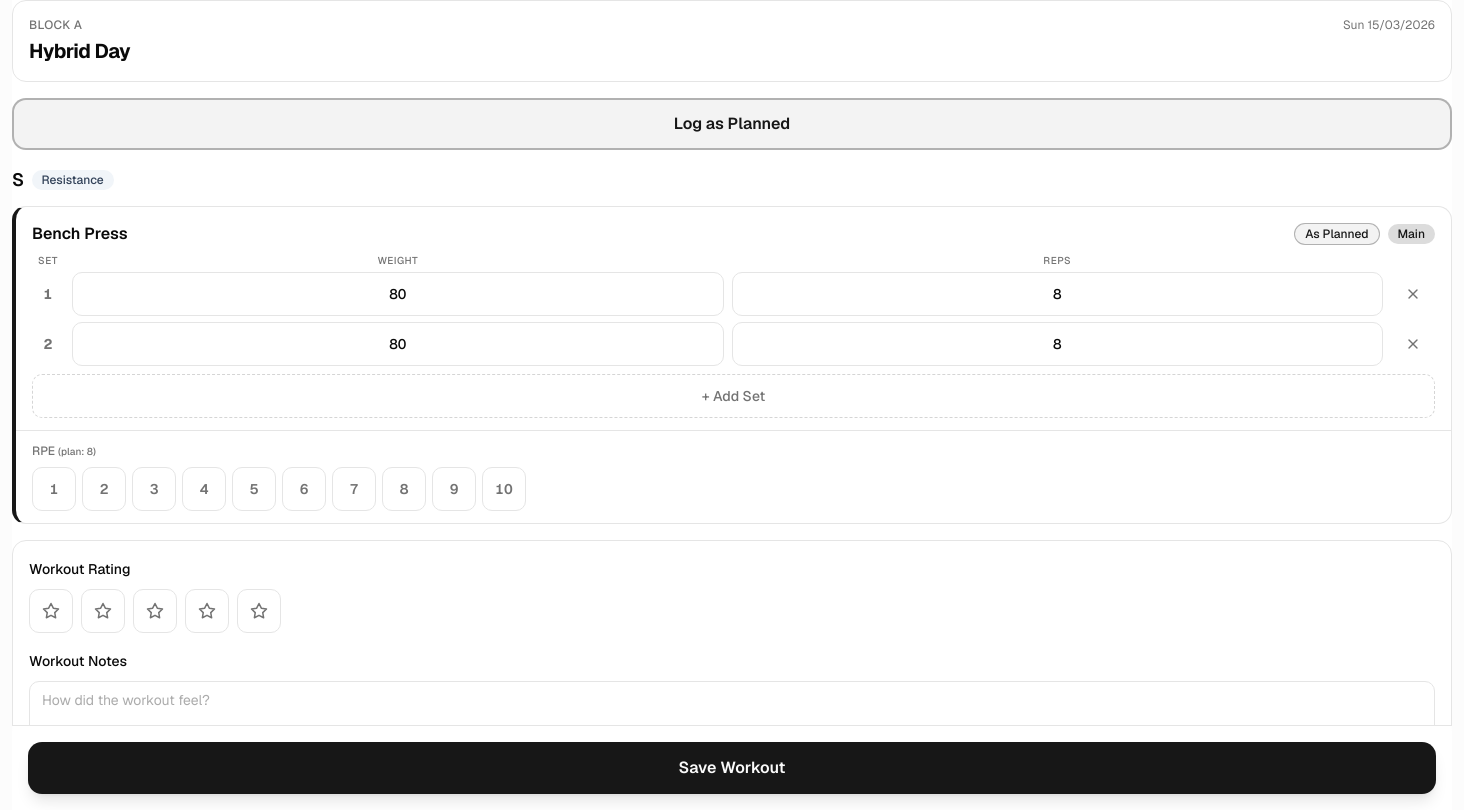
MixedLoggingForm — characterization › resistance: remove set works when multiple sets
This screenshot has width=1464, height=810.
Expected: the number of elements with test id "set-row" is 2, top-left (32, 272), bottom-right (1435, 316); top-left (32, 322), bottom-right (1435, 366)
Step 1. Click the button named "Remove set 2" → click(1413, 344), box top-left (1391, 322), bottom-right (1435, 366)
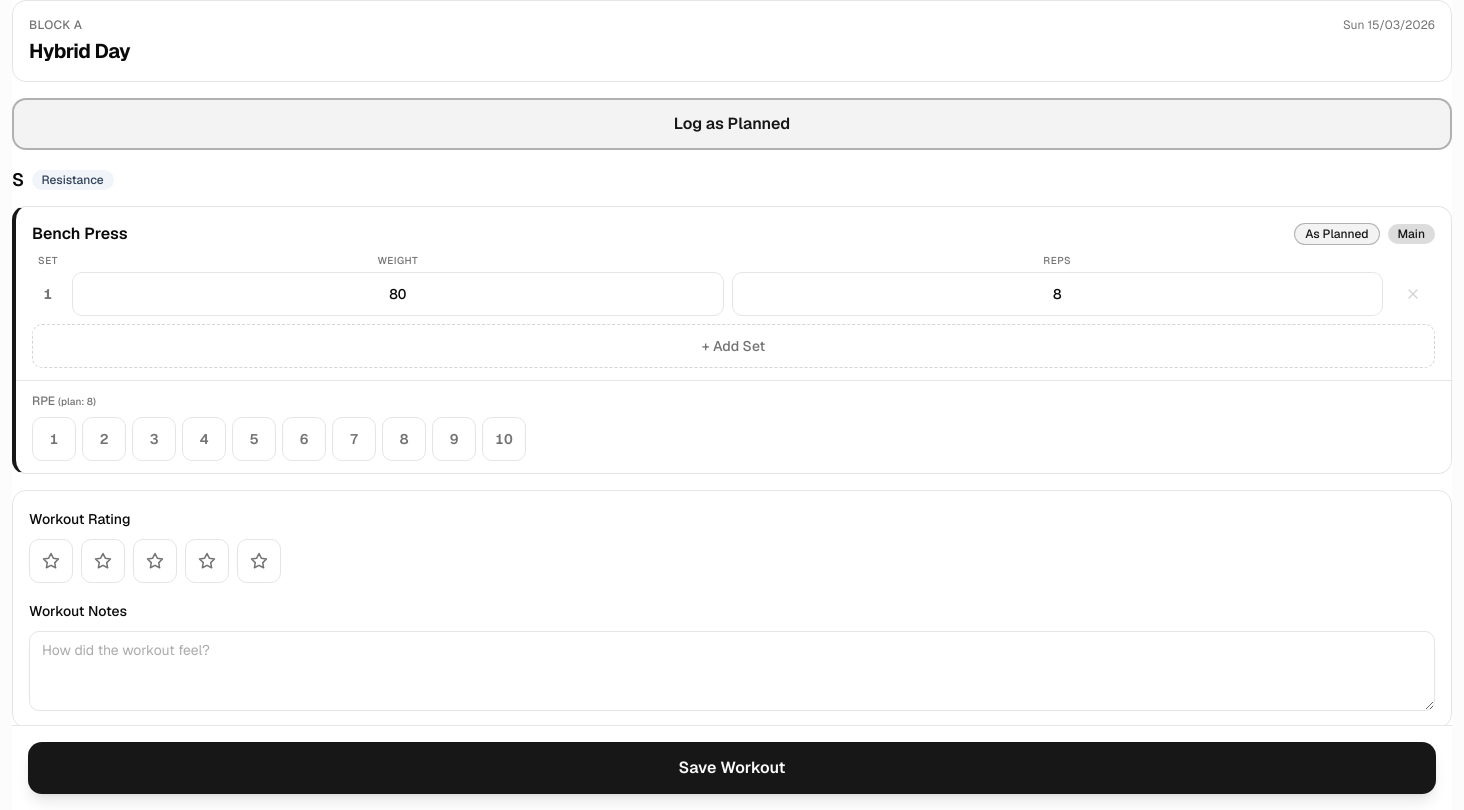
Now the number of elements with test id "set-row" is 1, box top-left (32, 272), bottom-right (1435, 316)
